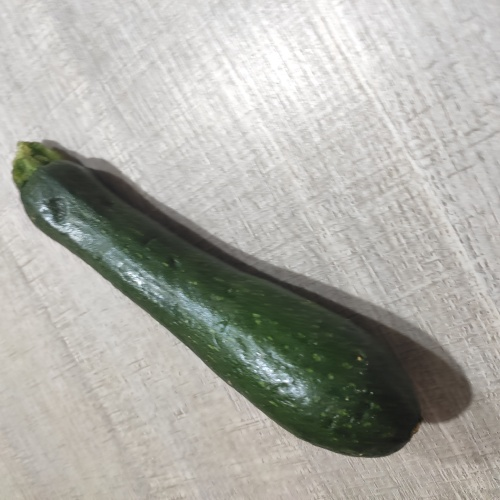zucchine: (10, 140, 428, 470)
